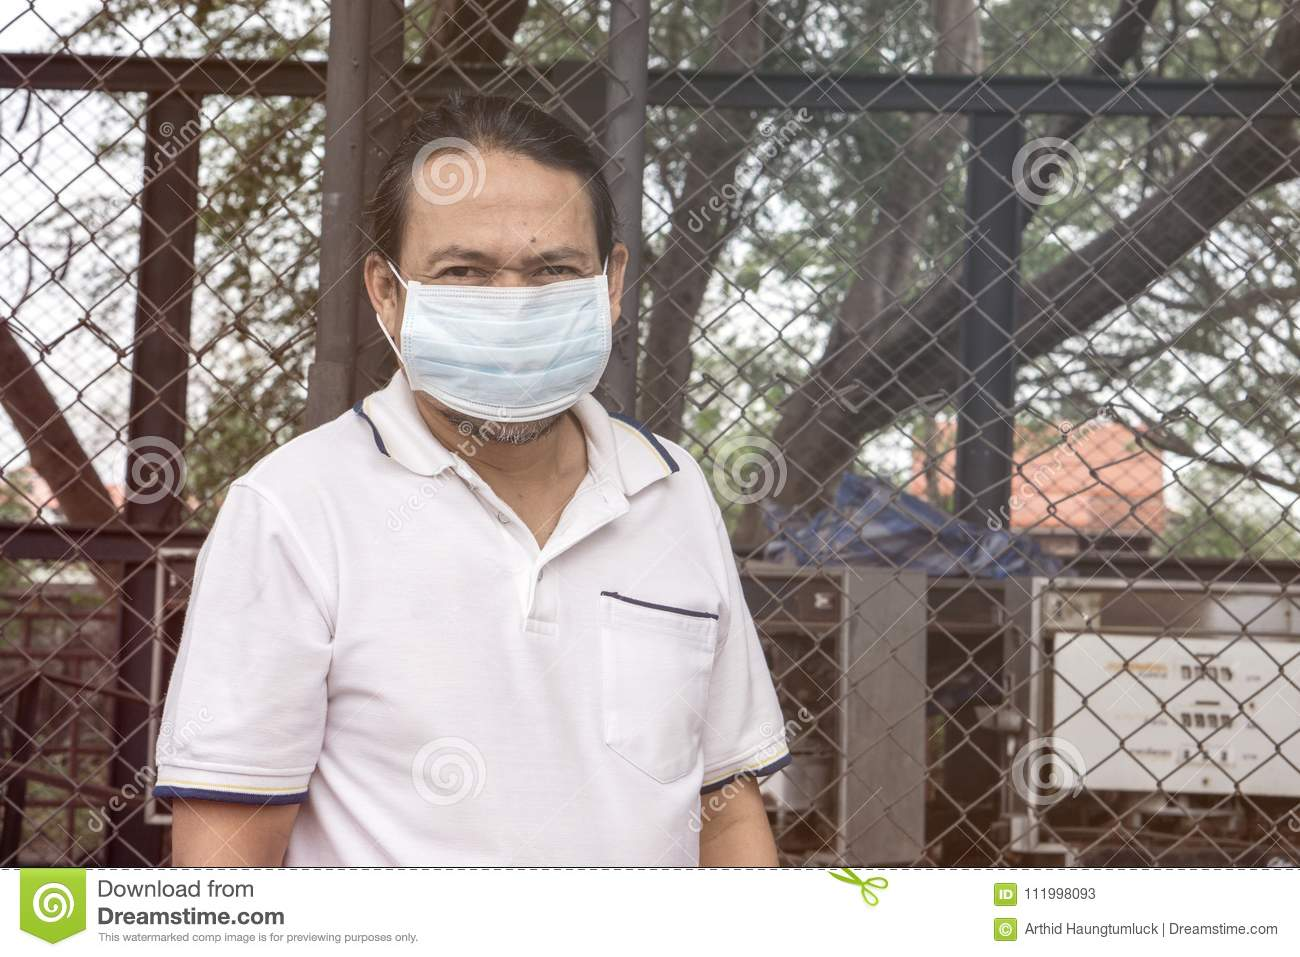mask: (402, 281, 609, 421)
